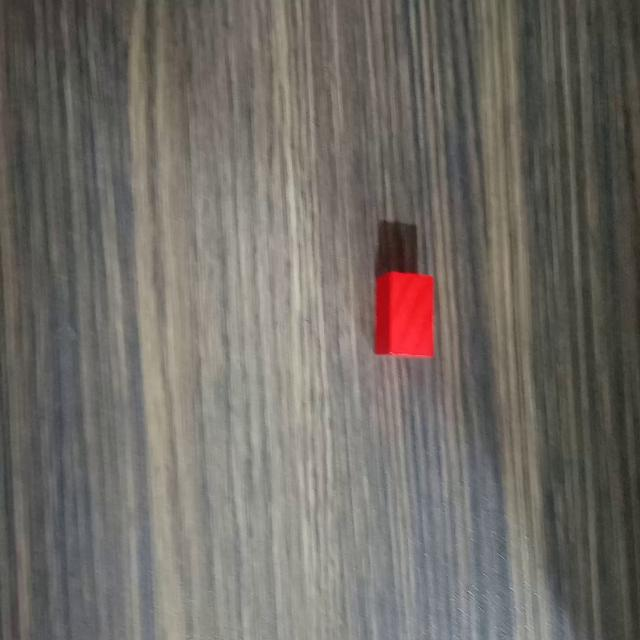cube: (370, 263, 438, 368)
